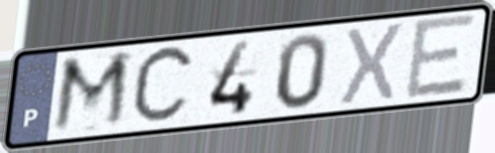0: (273, 30, 332, 114)
4: (204, 38, 256, 117)
C: (127, 40, 199, 131)
E: (402, 11, 479, 104)
M: (47, 48, 135, 138)
X: (336, 19, 408, 108)
